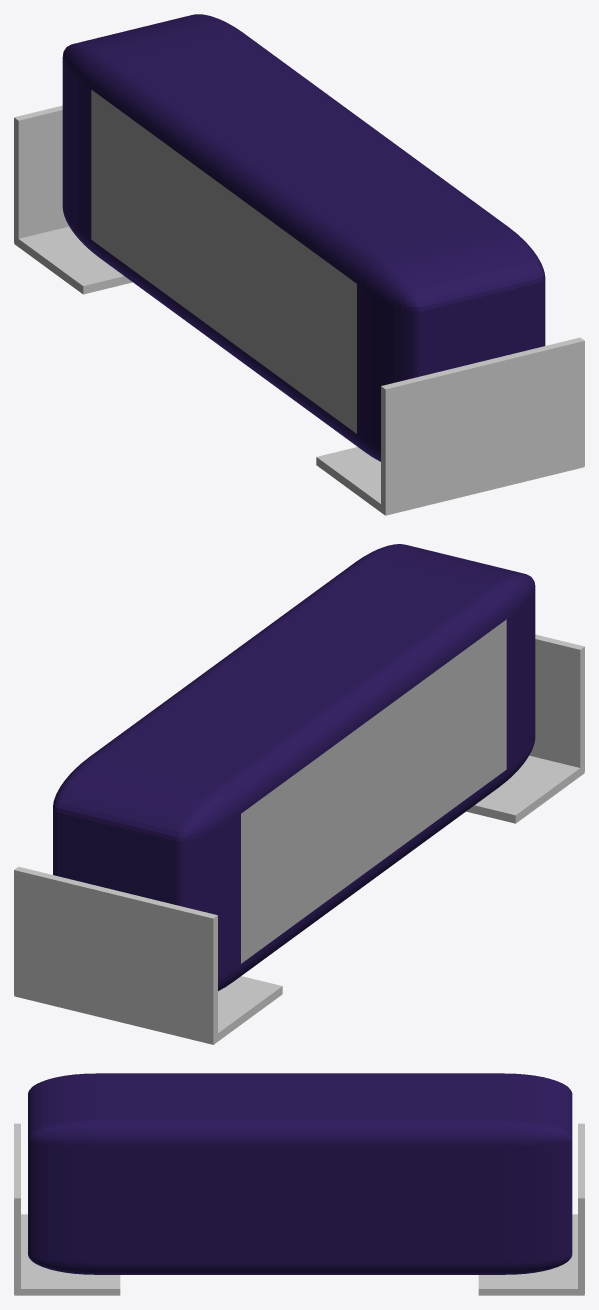
Rendered from battery.dae.
3 renders of one model, top to bottom at view 1: azimuth 30°, elevation 25°; view 2: azimuth 150°, elevation 25°; view 3: azimuth 270°, elevation 25°, orthographic. The views are drawn at different scales.
Parts seen in each view (by area): view 1: battery_holder_left; view 2: battery_holder_left; view 3: battery_holder_left.
Part boxes in pixels (<box>): battery_holder_left: <box>14,14,584,515</box>; battery_holder_left: <box>14,544,584,1044</box>; battery_holder_left: <box>14,1073,584,1295</box>.
Bounding box in the file's own units: 0.05 × 0.1615 × 0.0508.
